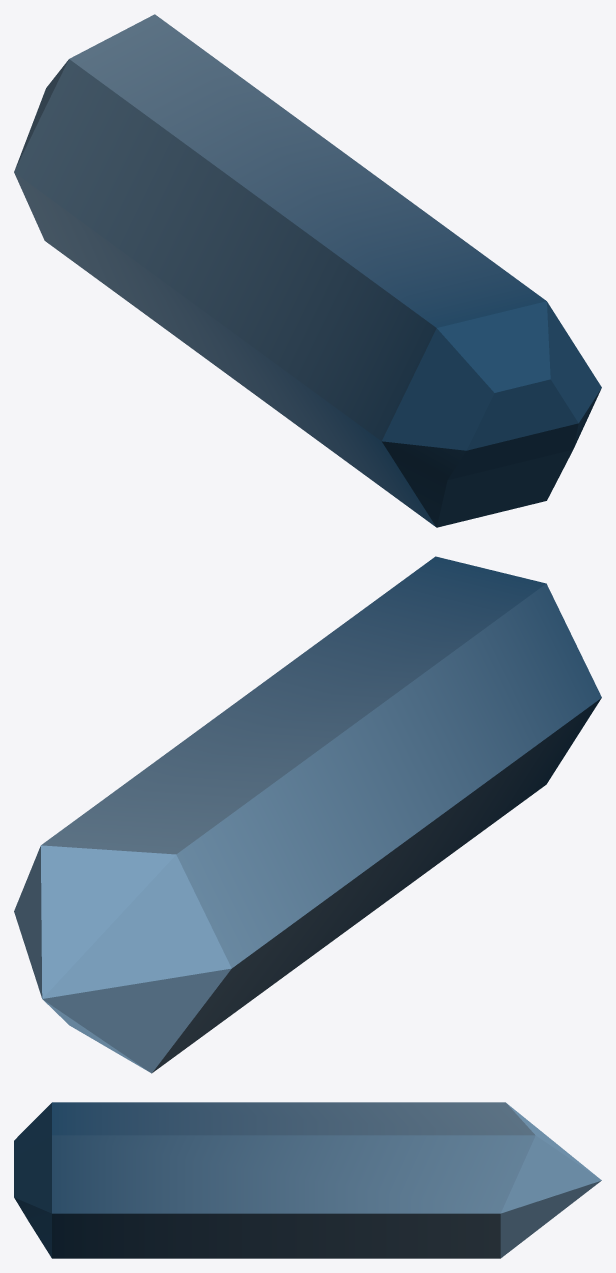
File: IceCrystal.009.glb
The picture shows the model from 3 angles, top to bottom: view 1: azimuth 30°, elevation 25°; view 2: azimuth 150°, elevation 25°; view 3: azimuth 270°, elevation 25°; orthographic projection. The views are drawn at different scales.
Visible parts, largest first — view 1: IceCrystal.009; view 2: IceCrystal.009; view 3: IceCrystal.009.
Part boxes in pixels (bbox=[...]): IceCrystal.009: bbox=[14, 14, 601, 527]; IceCrystal.009: bbox=[14, 556, 601, 1073]; IceCrystal.009: bbox=[14, 1102, 601, 1258].
Size of the model in its own units: 148 by 128 by 554.
